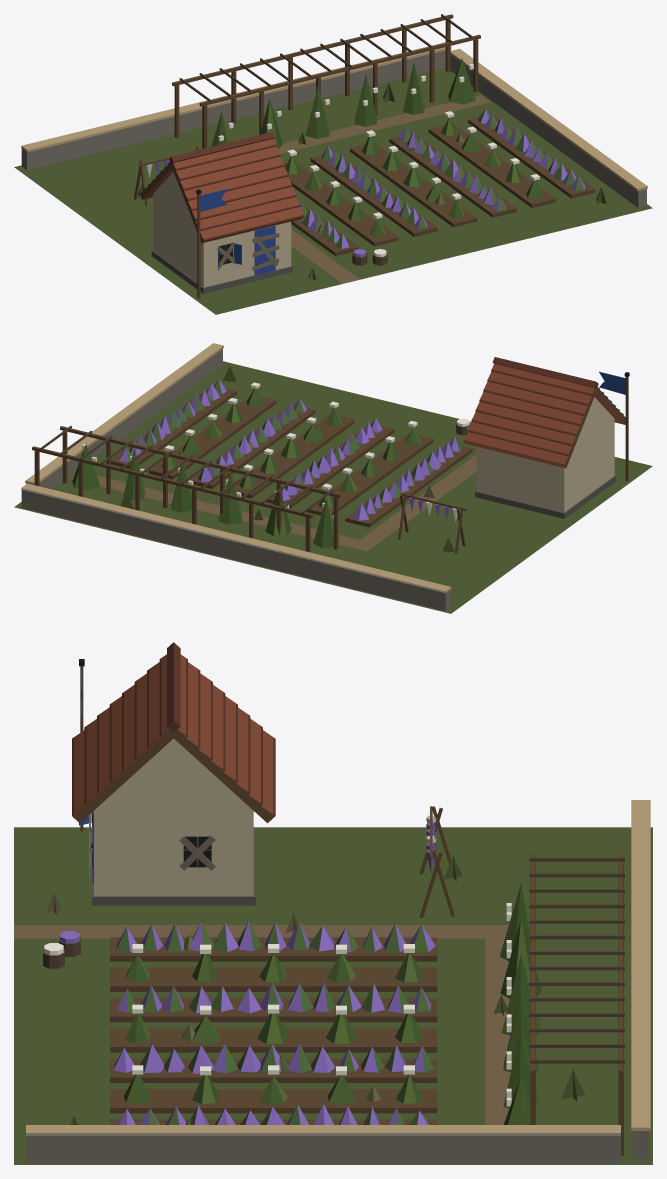
Rendered from duftgarten.glb.
The picture shows the model from 3 angles, top to bottom: view 1: azimuth 30°, elevation 25°; view 2: azimuth 150°, elevation 25°; view 3: azimuth 270°, elevation 25°; orthographic projection. The views are drawn at different scales.
Parts seen in each view (by area): view 1: Haus, Arbeit, Leerstand, Fahne; view 2: Haus, Arbeit, Fahne, Leerstand; view 3: Haus, Arbeit, Leerstand.
Part boxes in pixels (x1,y1,x2,y2): Haus: (14, 14, 652, 314); Arbeit: (134, 58, 585, 265); Leerstand: (137, 83, 606, 280); Fahne: (196, 189, 226, 298); Haus: (14, 343, 652, 613); Arbeit: (72, 378, 470, 553); Fahne: (599, 371, 629, 481); Leerstand: (120, 366, 454, 553); Haus: (14, 642, 652, 1164); Arbeit: (43, 806, 541, 1124); Leerstand: (46, 814, 585, 1124).
Size of the model in its own units: 20 by 5.26 by 16.
